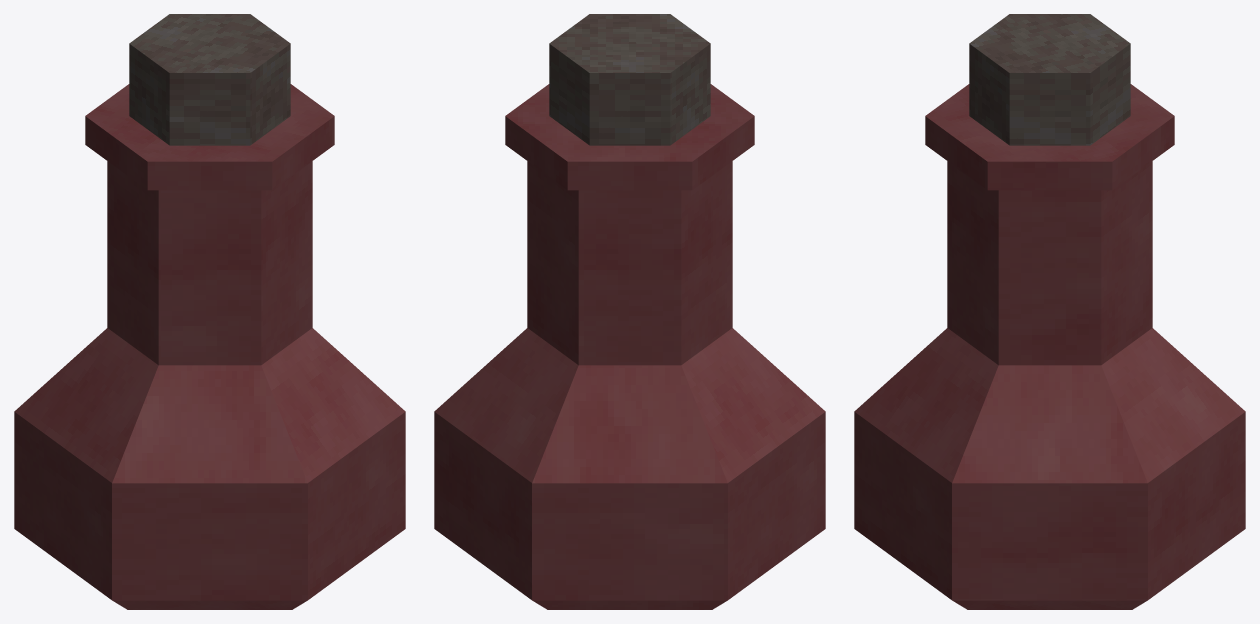
File: potion.gltf
The picture shows the model from 3 angles, left to right: view 1: azimuth 30°, elevation 25°; view 2: azimuth 150°, elevation 25°; view 3: azimuth 270°, elevation 25°; orthographic projection.
Visible parts, largest first — view 1: Potion; view 2: Potion; view 3: Potion.
Boxes of the visible parts, x1,y1,x2,y2 form: Potion: (14,14,405,609); Potion: (434,14,825,609); Potion: (854,14,1245,609).
Bounding box in the file's own units: 0.2603 × 0.4289 × 0.3005.
2 materials, 2 textured.
